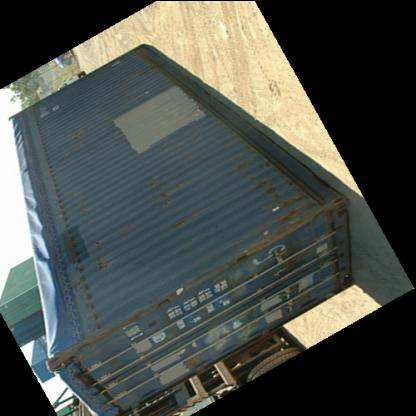Damage: (239, 153, 309, 231), (139, 172, 181, 202), (126, 55, 160, 86), (164, 210, 196, 234), (90, 235, 106, 277)
